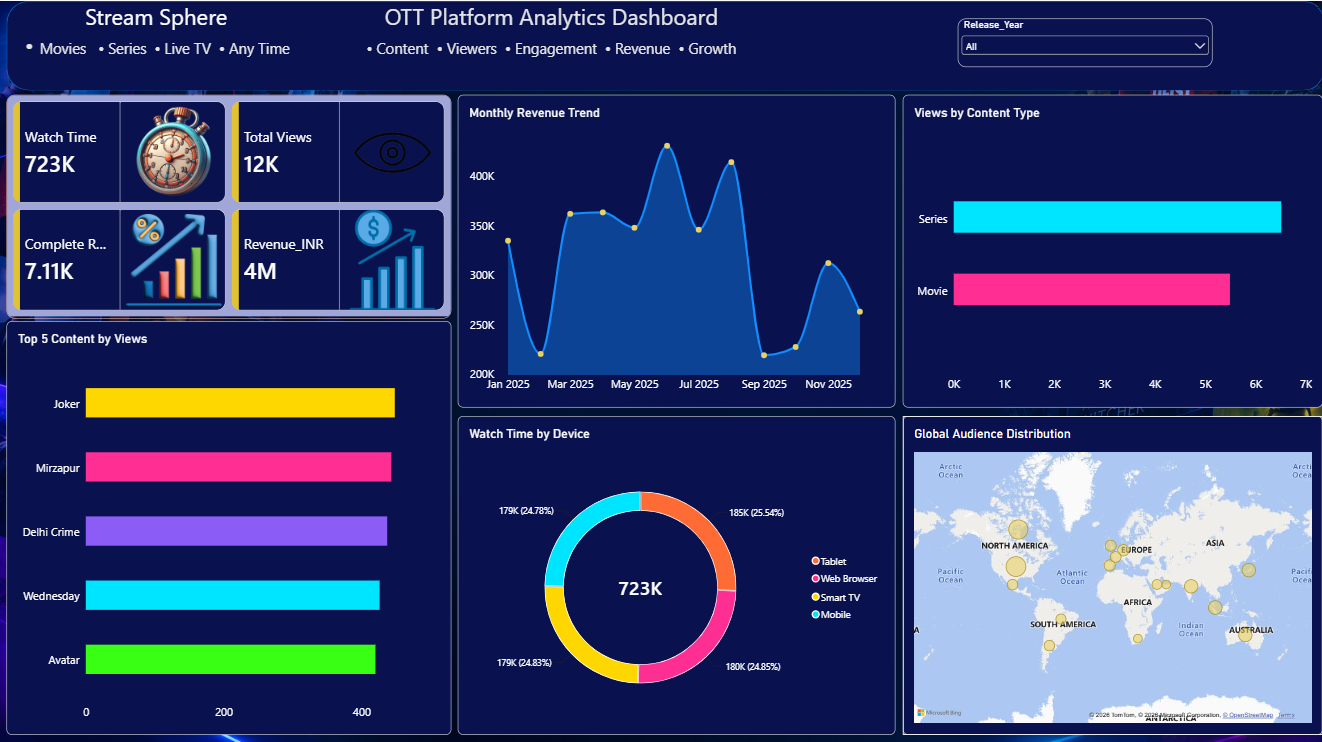

The dashboard page shown, as its layout file describes it:
{"tool":"powerbi","page":{"name":"Page 1","canvas":[1920,1080],"ordinal":0},"visuals":[{"type":"shape","box":[10.3,0,1910.1,129.7],"z":0},{"type":"textbox","box":[10.9,0,1909.2,130.3],"z":1},{"type":"cardVisual","fields":{"Data":["Sum(Watch_Activity.Watch_Time_Minutes)","Sum(Watch_Activity.Views)","Sum(Watch_Activity.Completion_Rate)","Sum(Monthly_Revenue.Revenue_INR)"]},"box":[10.9,135.7,644.2,323.9],"z":2},{"type":"lineChart","title":"Monthly Revenue Trend","fields":{"Category":["Monthly_Revenue.Month"],"Y":["Sum(Monthly_Revenue.Revenue_INR)"]},"box":[664.1,135.7,633.4,452.4],"z":3},{"type":"clusteredBarChart","title":"Views by Content Type","fields":{"Category":["Content.Content_Type"],"Y":["Sum(Watch_Activity.Views)"]},"box":[1308.4,135.7,609.9,452.4],"z":4},{"type":"donutChart","title":"Watch Time by Device","fields":{"Category":["Watch_Activity.Device"],"Y":["Sum(Watch_Activity.Watch_Time_Minutes)"]},"box":[664.1,600.8,633.4,461.5],"z":5},{"type":"barChart","title":"Top 5 Content by Views","fields":{"Category":["Content.Title"],"Y":["Sum(Watch_Activity.Views)"]},"box":[10.9,463.3,644.2,599],"z":6},{"type":"map","title":"Global Audience Distribution","fields":{"Category":["Users.Country"],"Size":["Count(Watch_Activity.User_ID)"]},"box":[1308.4,600.8,609.9,461.5],"z":7},{"type":"slicer","fields":{"Values":["Content.Release_Year"]},"box":[1388,25.3,369.2,70.6],"z":8}]}

Visuals, with their boxes in screenshot pixels (x1, y1, x2, y2), scaled from the page's 1920x1080 canvas onto the 1322x742 screenshot:
shape: (left=7, top=0, right=1321, bottom=89)
textbox: (left=8, top=0, right=1321, bottom=90)
cardVisual - Sum(Watch_Activity.Watch_Time_Minutes) x Sum(Watch_Activity.Views): (left=8, top=93, right=451, bottom=316)
"Monthly Revenue Trend" lineChart: (left=457, top=93, right=893, bottom=404)
"Views by Content Type" clusteredBarChart: (left=901, top=93, right=1321, bottom=404)
"Watch Time by Device" donutChart: (left=457, top=413, right=893, bottom=730)
"Top 5 Content by Views" barChart: (left=8, top=318, right=451, bottom=730)
"Global Audience Distribution" map: (left=901, top=413, right=1321, bottom=730)
slicer - Content.Release_Year: (left=956, top=17, right=1210, bottom=66)
